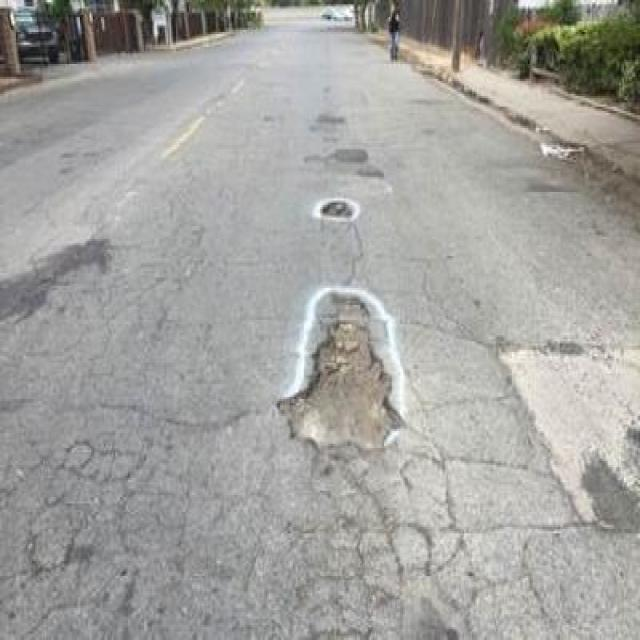pothole: (282, 290, 404, 452), (320, 194, 357, 220)
